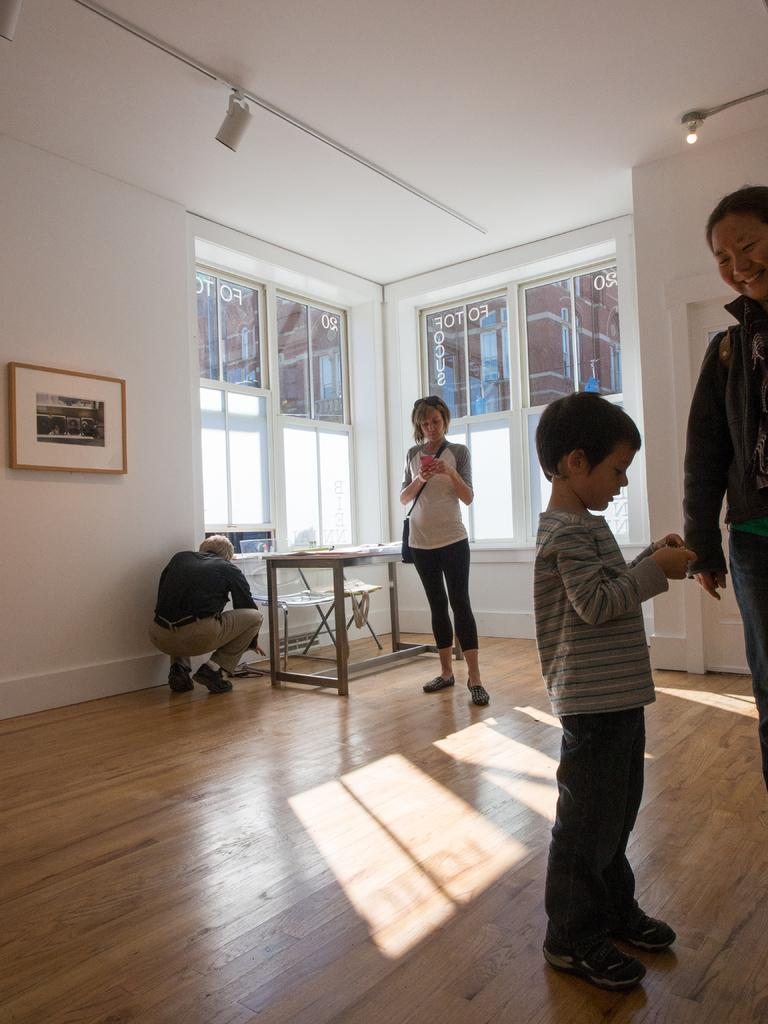Chair: (245, 535, 340, 671), (292, 536, 387, 653)
